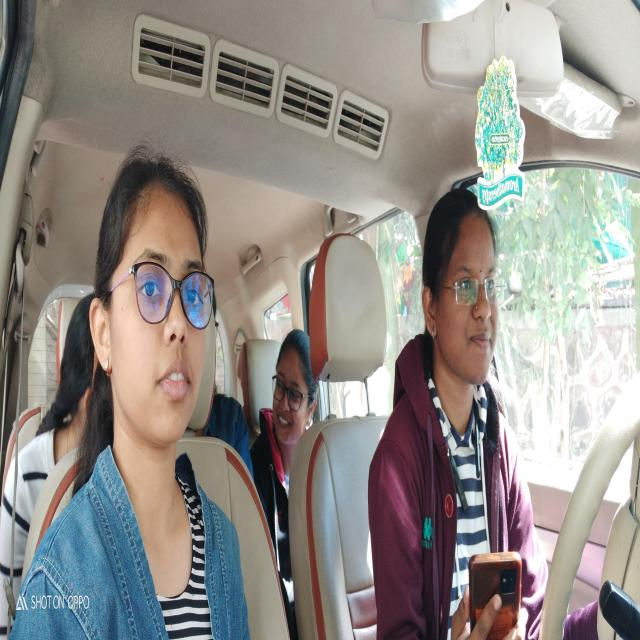mobile: (463, 549, 525, 636)
person: (86, 131, 216, 446), (421, 182, 504, 394), (42, 290, 94, 457), (270, 318, 316, 444)
